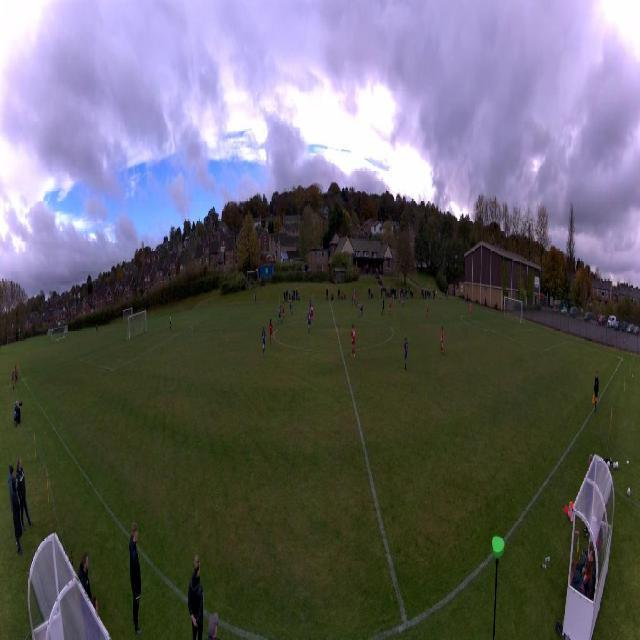ball: (358, 303, 359, 307)
player: (403, 337, 409, 371), (350, 325, 356, 356), (440, 326, 445, 354), (268, 319, 273, 345), (262, 325, 266, 357), (307, 309, 312, 333), (278, 305, 282, 325), (381, 298, 385, 316), (310, 304, 314, 322), (388, 297, 392, 314), (359, 302, 363, 319), (282, 302, 285, 321), (426, 301, 429, 320), (309, 295, 313, 307), (289, 301, 292, 316), (351, 295, 354, 307), (170, 313, 172, 331), (401, 295, 404, 307), (470, 302, 472, 318), (355, 293, 357, 308), (353, 290, 356, 300), (398, 290, 400, 305)
